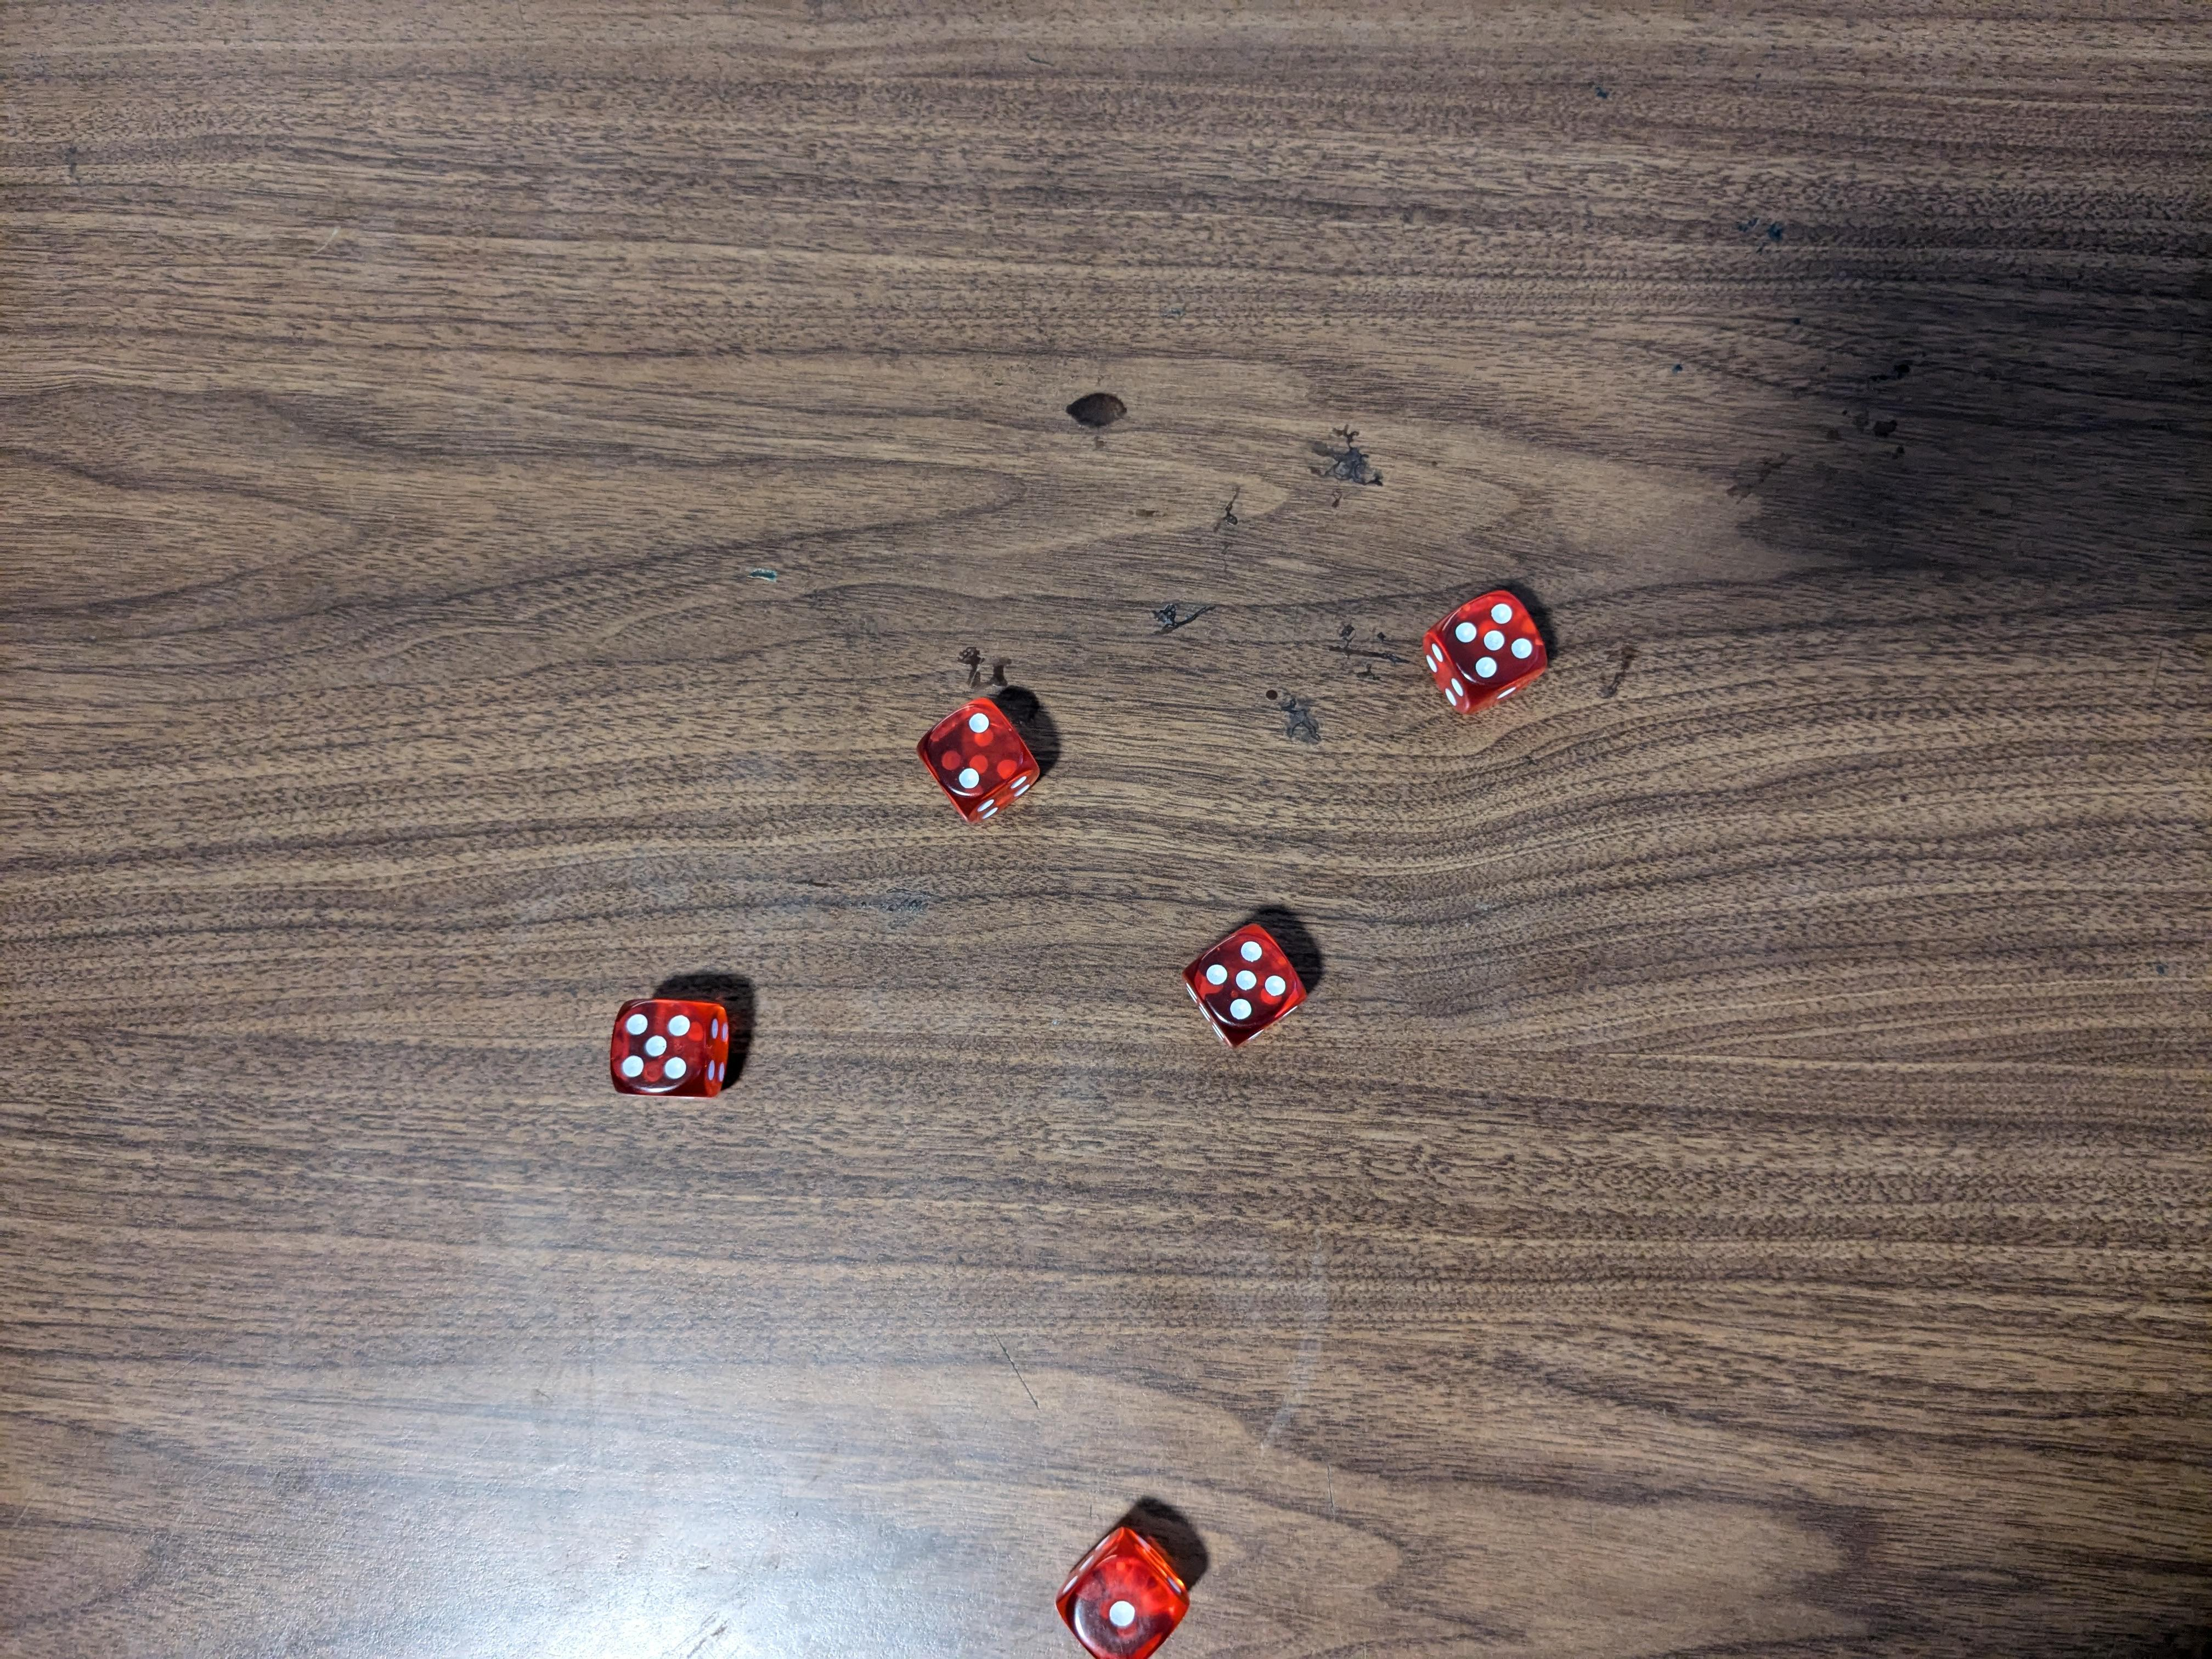five: (1430, 582, 1550, 716), (1191, 922, 1308, 1053), (611, 993, 733, 1103)
one: (1055, 1525, 1190, 1659)
two: (914, 697, 1042, 826)
